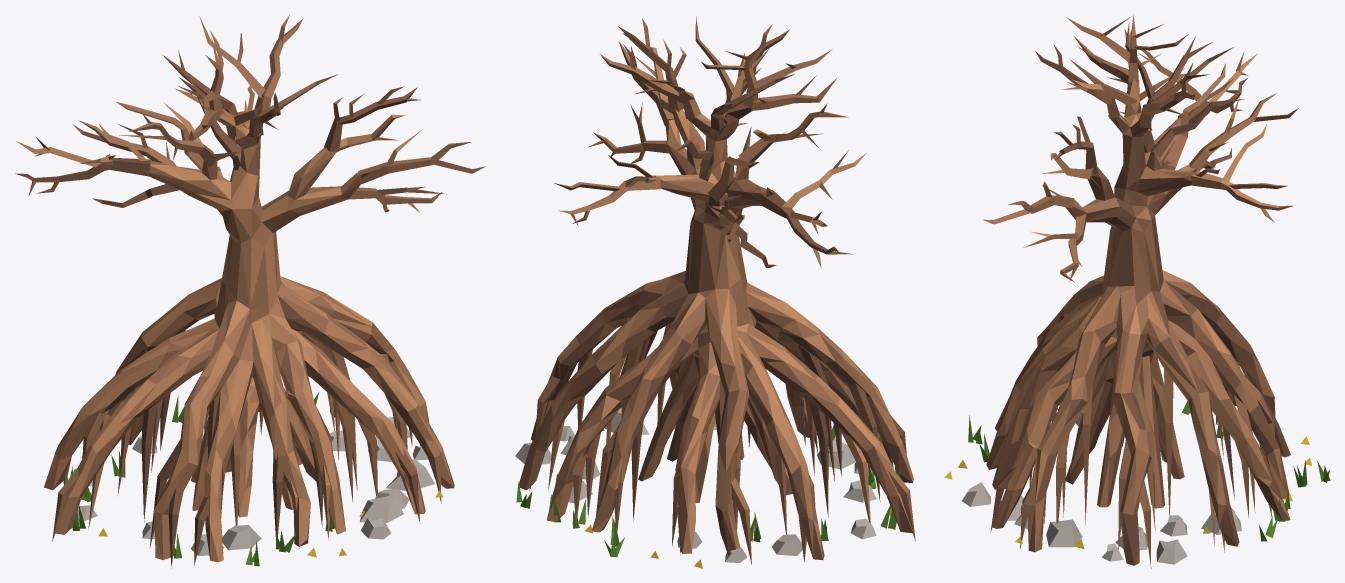
The model's file is giant_mangrove_bare.glb.
3 renders of one model, left to right at view 1: azimuth 30°, elevation 25°; view 2: azimuth 150°, elevation 25°; view 3: azimuth 270°, elevation 25°, orthographic.
Parts seen in each view (by area): view 1: giant_mangrove_bare; view 2: giant_mangrove_bare; view 3: giant_mangrove_bare.
Boxes of the visible parts, x1=… form: giant_mangrove_bare: x1=15, y1=15, x2=485, y2=568; giant_mangrove_bare: x1=515, y1=16, x2=915, y2=568; giant_mangrove_bare: x1=944, y1=15, x2=1330, y2=568.
Bounding box in the file's own units: 22.31 × 25.44 × 19.75.
